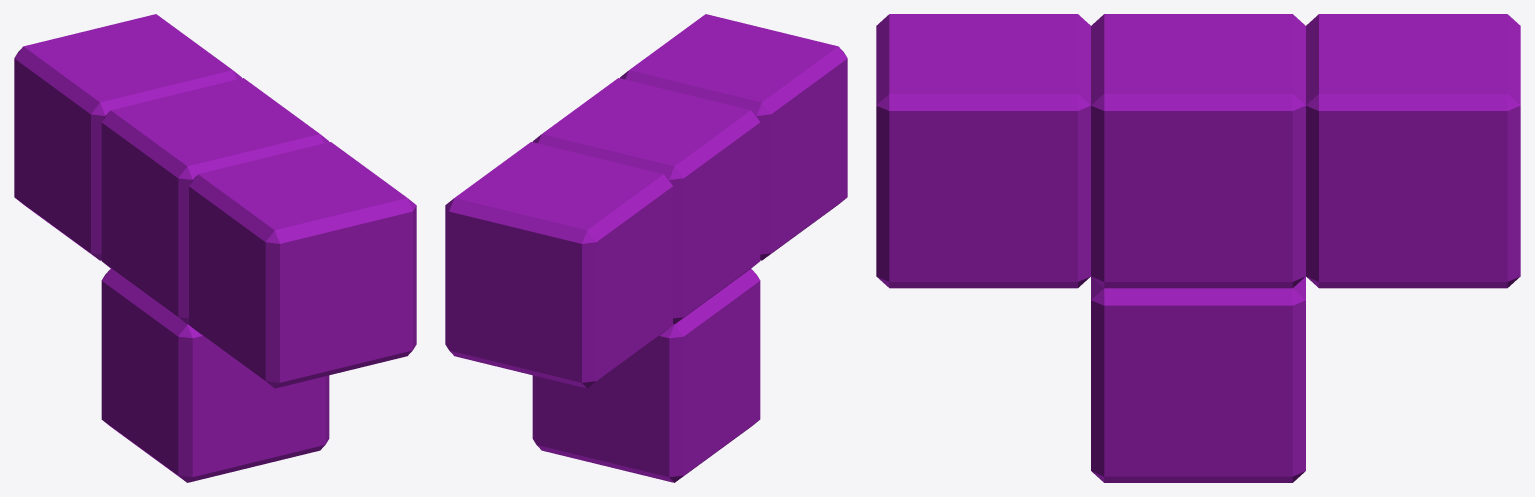
The model's file is TetriminoT.fbx.
The picture shows the model from 3 angles, left to right: view 1: azimuth 30°, elevation 25°; view 2: azimuth 150°, elevation 25°; view 3: azimuth 270°, elevation 25°; orthographic projection. The views are drawn at different scales.
Parts seen in each view (by area): view 1: Cube.003, Cube.000, Cube.001, Cube.002; view 2: Cube.002, Cube.000, Cube.001, Cube.003; view 3: Cube.001, Cube.002, Cube.003, Cube.000.
Part boxes in pixels (<box>): Cube.003: <box>189,142,416,388</box>; Cube.000: <box>101,269,329,482</box>; Cube.001: <box>101,78,329,324</box>; Cube.002: <box>14,14,241,260</box>; Cube.002: <box>445,142,672,388</box>; Cube.000: <box>532,269,760,482</box>; Cube.001: <box>532,78,760,324</box>; Cube.003: <box>620,14,847,260</box>; Cube.001: <box>1091,14,1305,288</box>; Cube.002: <box>1306,14,1520,288</box>; Cube.003: <box>876,14,1090,288</box>; Cube.000: <box>1091,276,1305,482</box>.
Size of the model in its own units: 200 by 400 by 600.
